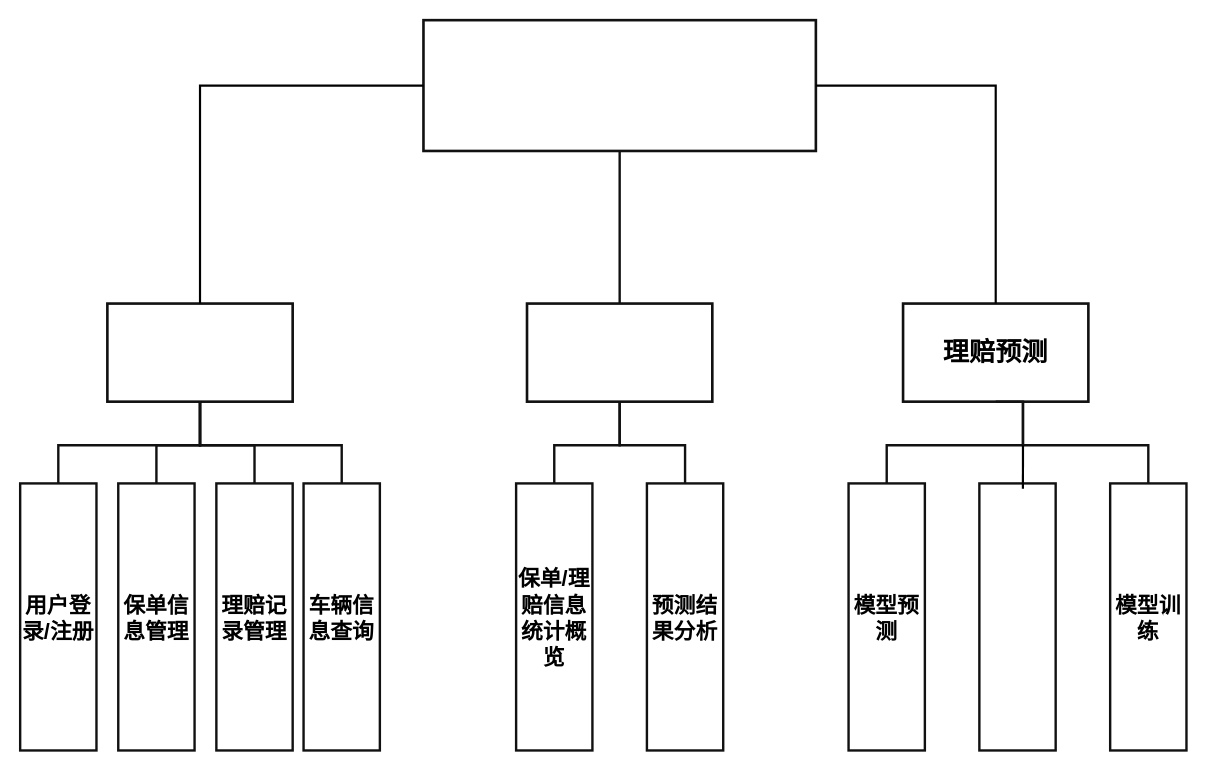
Image size: 1207x771. Some labels were removed from this diagram. The centre of each missing label's shape, as x and y in pixels:
业务管理: (199,352)
可视化分析: (619,352)
基于深度学习的车险理赔预测系统: (619,85)
结果输出展示: (1017,616)
